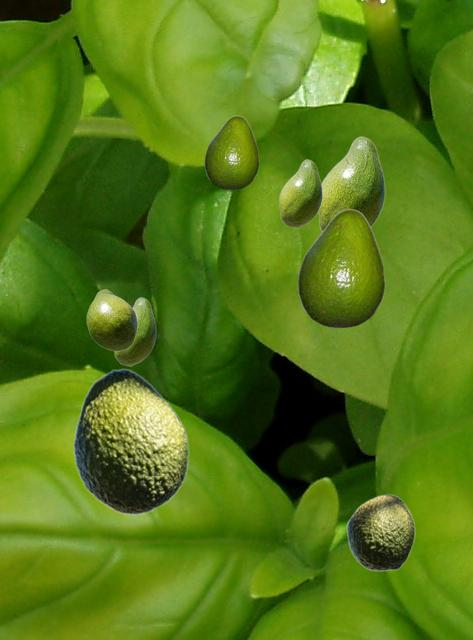avocado: (72, 368, 188, 514), (297, 208, 384, 326), (318, 136, 384, 231), (346, 494, 414, 570), (204, 115, 258, 188), (86, 289, 136, 350), (279, 159, 321, 227), (114, 297, 155, 365)
